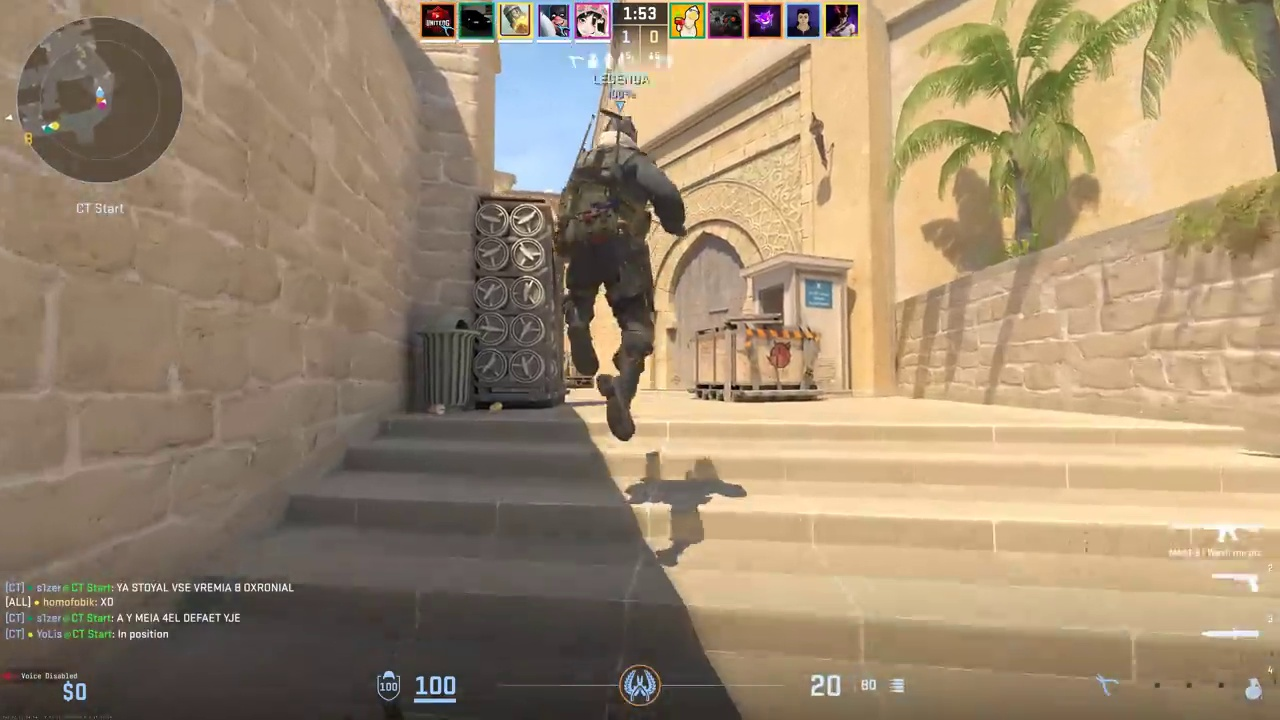CT: (560, 118, 671, 433)
